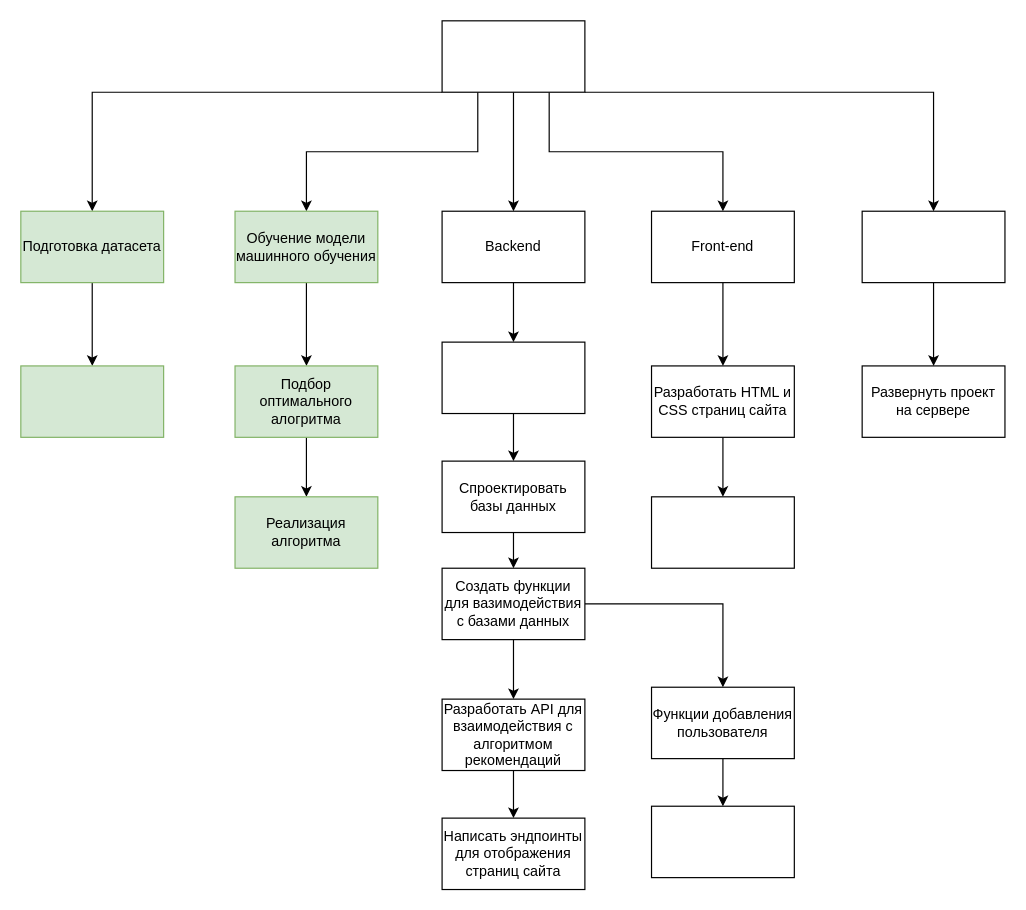
Image size: 1026x910. Some labels were removed from this diagram. Each missing label, with the centre of its shape:
EDA Process: (92,401)
Проект "Кнопка": (513,56)
Реализовать взаимодействие с бэкендом: (722,532)
Регистрация/Авторизация пользователя: (513,377)
Сервер: (933,246)
Функции добавления фильма в оцененные пользователем: (722,841)
